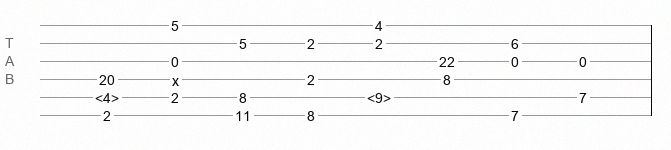0: (171, 54, 179, 64), (511, 54, 519, 64), (579, 54, 587, 64)
11: (235, 108, 251, 118)
2: (103, 108, 111, 118), (171, 90, 179, 100), (307, 72, 315, 82), (307, 36, 315, 46), (375, 36, 383, 46)
20: (99, 72, 115, 82)
22: (439, 54, 455, 64)
4: (375, 18, 383, 28)
5: (171, 18, 179, 28), (239, 36, 247, 46)
6: (511, 36, 519, 46)
7: (511, 108, 519, 118), (579, 90, 587, 100)
8: (239, 90, 247, 100), (307, 108, 315, 118), (443, 72, 451, 82)
harmonic: (95, 90, 119, 100), (367, 90, 391, 100)
x: (172, 73, 179, 81)
